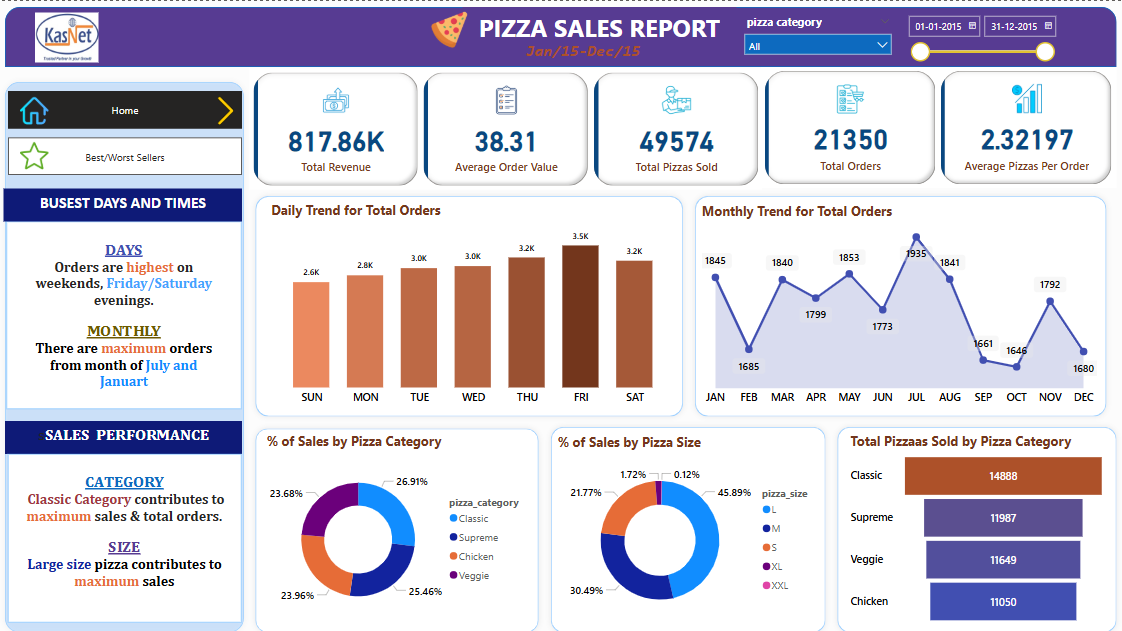

Layout of this report page (visuals, bound fields, positions):
{"tool":"powerbi","page":{"name":"Home","canvas":[1500,850],"ordinal":0},"visuals":[{"type":"shape","box":[8,8,1482,80],"z":0},{"type":"cardVisual","fields":{"Data":["pizza_sales.Total Revenue","pizza_sales.Average Order Value","pizza_sales.Total Pizzas Sold"]},"box":[334,89.2,683.3,161.3],"z":0,"group":"g2"},{"type":"shape","box":[0,100,334.4,750],"z":0,"group":"g6"},{"type":"shape","box":[334,252,586,310],"z":0,"group":"g5"},{"type":"shape","box":[920,252,564.4,310],"z":0,"group":"g7"},{"type":"group","id":"g1","title":"Group 2","box":[728,560,382,290],"z":0,"group":"g9"},{"type":"shape","box":[728,560,382,290],"z":0,"group":"g1"},{"type":"shape","box":[1110,560,388,290],"z":0,"group":"g4"},{"type":"shape","box":[334,562,393.3,288],"z":0,"group":"g3"},{"type":"group","id":"g2","title":"Group 1","box":[334,88,1154,162],"z":1000},{"type":"cardVisual","fields":{"Data":["pizza_sales.Total Orders","pizza_sales.Average Pizzas Per Order"]},"box":[1015.1,88,473.9,161.3],"z":1000,"group":"g2"},{"type":"columnChart","title":"Daily Trend for Total Orders","fields":{"Category":["pizza_sales.Order Day"],"Y":["pizza_sales.Total Orders"]},"box":[359,266,548.6,282],"z":1000,"group":"g5"},{"type":"areaChart","title":"Monthly Trend for Total Orders","fields":{"Category":["pizza_sales.Order Month"],"Y":["pizza_sales.Total Orders"]},"box":[932.2,268.7,536.7,280],"z":1000,"group":"g7"},{"type":"textbox","box":[10,294.4,313.3,250],"z":1000,"group":"g6"},{"type":"donutChart","title":"  % of Sales by Pizza Size","fields":{"Y":["pizza_sales.Total Revenue"],"Category":["pizza_sales.pizza_size"]},"box":[740,576,362,262],"z":1000,"group":"g9"},{"type":"textbox","box":[617.5,7.5,365,60],"z":2000},{"type":"group","id":"g3","title":"Group 4","box":[334,562,393.3,288],"z":2010,"group":"g8"},{"type":"donutChart","title":"  % of Sales by Pizza Category","fields":{"Category":["pizza_sales.pizza_category"],"Y":["pizza_sales.Total Revenue"]},"box":[352,574,362,264],"z":2010,"group":"g3"},{"type":"funnel","title":"Total Pizzaas Sold by Pizza Category","fields":{"Category":["pizza_sales.pizza_category"],"Y":["pizza_sales.Total Pizzas Sold"]},"box":[1130,574,350,262],"z":2012,"group":"g4"},{"type":"group","id":"g4","title":"Group 7","box":[1110,560,388,290],"z":2015,"group":"g10"},{"type":"textbox","box":[685,47.5,185,40],"z":3000},{"type":"image","box":[549,8,100,60],"z":4000},{"type":"group","id":"g5","title":"Group 2","box":[334,252,586,310],"z":5000},{"type":"group","id":"g6","title":"Group 2","box":[0,100,334.4,750],"z":6000},{"type":"group","id":"g7","title":"Group 3","box":[920,252,564,310],"z":7000},{"type":"group","id":"g8","title":"Group 2","box":[334,562,393.3,288],"z":8000},{"type":"group","id":"g9","title":"Group 5","box":[728,560,382,290],"z":9000},{"type":"group","id":"g10","title":"Group 6","box":[1110,560,388,290],"z":10000},{"type":"textbox","box":[6,250,318,44],"z":11000},{"type":"textbox","box":[8,560,316,44],"z":12000},{"type":"textbox","box":[12.2,604.4,311.1,224.4],"z":13000},{"type":"slicer","fields":{"Values":["pizza_sales.pizza_category"]},"box":[984,12,216,76],"z":14000},{"type":"slicer","fields":{"Values":["pizza_sales.order_date"]},"box":[1200,10,216,76],"z":15000},{"type":"pageNavigator","box":[12,120,312,50],"z":16000},{"type":"pageNavigator","box":[12,182,312,50],"z":17000},{"type":"image","box":[274,122,56,48],"z":18000},{"type":"image","box":[12,122,70,48],"z":19000},{"type":"image","box":[16,182,62,48],"z":20000},{"type":"image","box":[5.7,10,168.6,77.1],"z":20001}]}

Visuals, with their boxes in screenshot pixels (x1, y1, x2, y2), scaled from the page's 1500x850 canvas onto the 1122x631 screenshot:
shape: (left=6, top=6, right=1115, bottom=65)
cardVisual - pizza_sales.Total Revenue x pizza_sales.Average Order Value: (left=250, top=66, right=761, bottom=186)
shape: (left=0, top=74, right=250, bottom=630)
shape: (left=250, top=187, right=688, bottom=417)
shape: (left=688, top=187, right=1110, bottom=417)
"Group 2" group: (left=545, top=416, right=830, bottom=630)
shape: (left=545, top=416, right=830, bottom=630)
shape: (left=830, top=416, right=1121, bottom=630)
shape: (left=250, top=417, right=544, bottom=630)
"Group 1" group: (left=250, top=65, right=1113, bottom=186)
cardVisual - pizza_sales.Total Orders x pizza_sales.Average Pizzas Per Order: (left=759, top=65, right=1114, bottom=185)
"Daily Trend for Total Orders" columnChart: (left=269, top=197, right=679, bottom=407)
"Monthly Trend for Total Orders" areaChart: (left=697, top=199, right=1099, bottom=407)
textbox: (left=7, top=219, right=242, bottom=404)
"  % of Sales by Pizza Size" donutChart: (left=554, top=428, right=824, bottom=622)
textbox: (left=462, top=6, right=735, bottom=50)
"Group 4" group: (left=250, top=417, right=544, bottom=630)
"  % of Sales by Pizza Category" donutChart: (left=263, top=426, right=534, bottom=622)
"Total Pizzaas Sold by Pizza Category" funnel: (left=845, top=426, right=1107, bottom=621)
"Group 7" group: (left=830, top=416, right=1121, bottom=630)
textbox: (left=512, top=35, right=651, bottom=65)
image: (left=411, top=6, right=485, bottom=50)
"Group 2" group: (left=250, top=187, right=688, bottom=417)
"Group 2" group: (left=0, top=74, right=250, bottom=630)
"Group 3" group: (left=688, top=187, right=1110, bottom=417)
"Group 2" group: (left=250, top=417, right=544, bottom=630)
"Group 5" group: (left=545, top=416, right=830, bottom=630)
"Group 6" group: (left=830, top=416, right=1121, bottom=630)
textbox: (left=4, top=186, right=242, bottom=218)
textbox: (left=6, top=416, right=242, bottom=448)
textbox: (left=9, top=449, right=242, bottom=615)
slicer - pizza_sales.pizza_category: (left=736, top=9, right=898, bottom=65)
slicer - pizza_sales.order_date: (left=898, top=7, right=1059, bottom=64)
pageNavigator: (left=9, top=89, right=242, bottom=126)
pageNavigator: (left=9, top=135, right=242, bottom=172)
image: (left=205, top=91, right=247, bottom=126)
image: (left=9, top=91, right=61, bottom=126)
image: (left=12, top=135, right=58, bottom=171)
image: (left=4, top=7, right=130, bottom=65)
